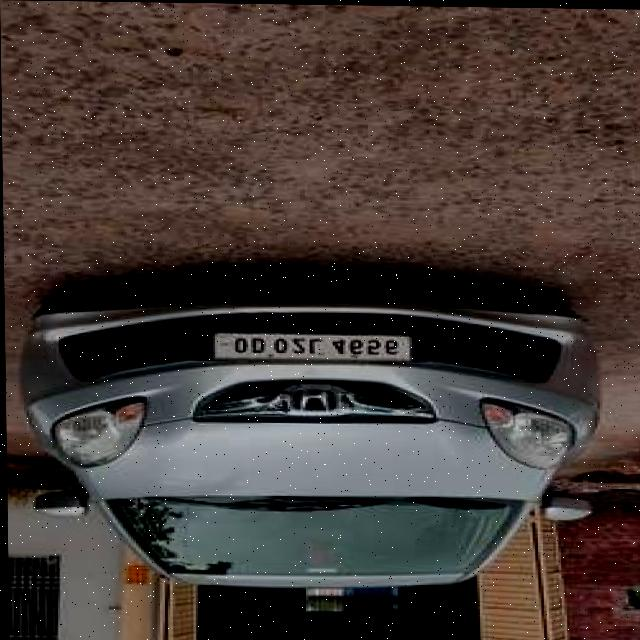plate: (210, 331, 409, 362)
